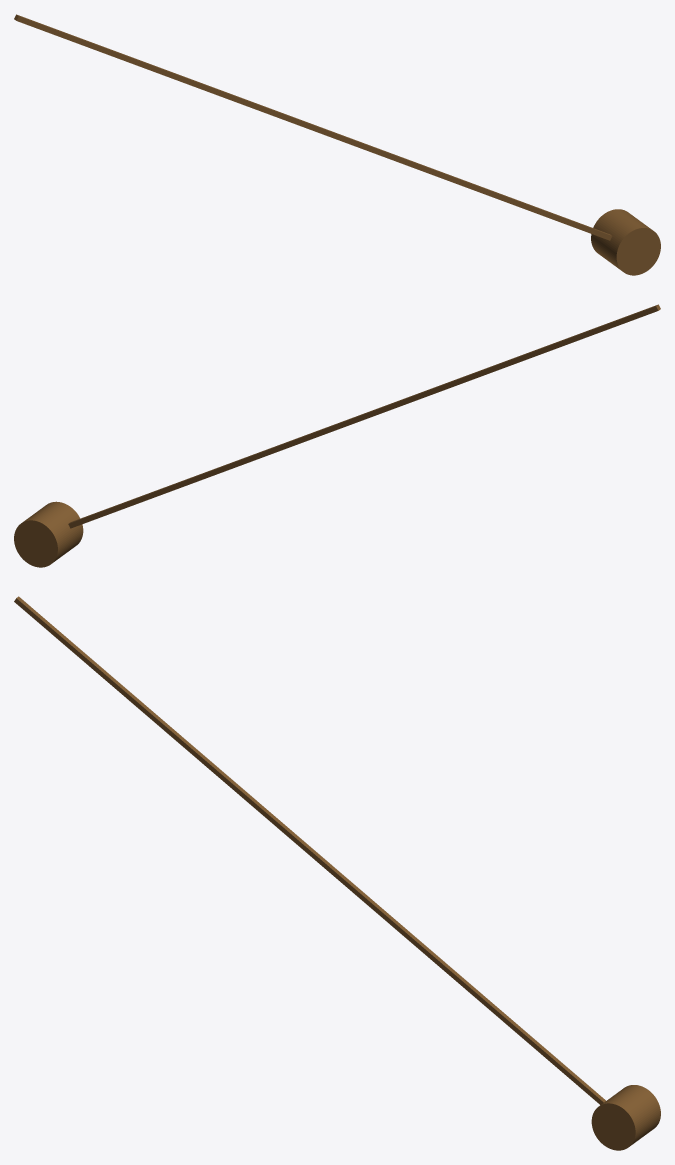
File: pressureneedle.fbx
3 views of the same model, one above another, from view 1: azimuth 30°, elevation 25°; view 2: azimuth 150°, elevation 25°; view 3: azimuth 330°, elevation 25° (orthographic).
Parts seen in each view (by area): view 1: Cylinder.003; view 2: Cylinder.003; view 3: Cylinder.003.
Boxes of the visible parts, x1,y1,x2,y2 form: Cylinder.003: (14, 14, 660, 275); Cylinder.003: (14, 304, 660, 567); Cylinder.003: (14, 596, 660, 1150).
Size of the model in its own units: 121 by 73.11 by 8.45.
